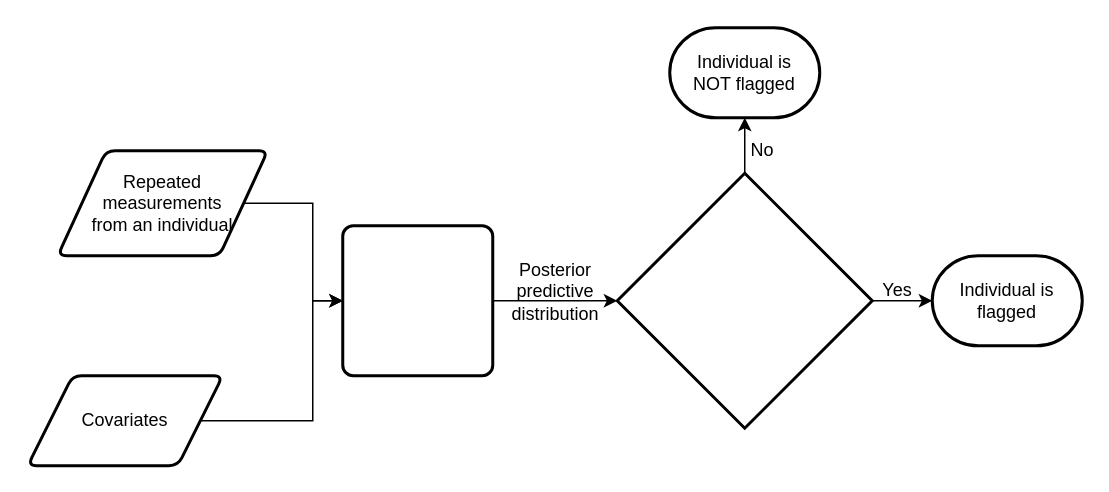
This 1109x492 diagram has some shape labels left out. Each missing label, with the centre of its shape:
"BGLM model" goes at point 417,300.
"Is the observed metabolite level outside the 95% interval?" goes at point 744,300.
